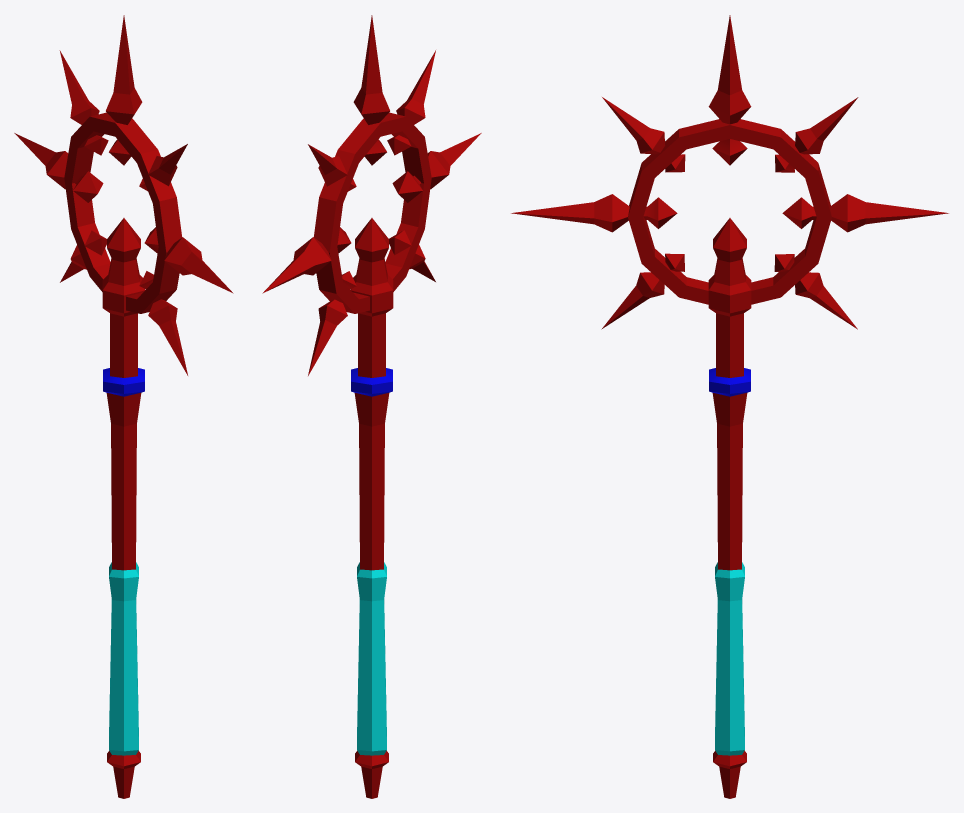
File: Mace_Rare_SunWorshipper.fbx
The picture shows the model from 3 angles, left to right: view 1: azimuth 30°, elevation 25°; view 2: azimuth 150°, elevation 25°; view 3: azimuth 270°, elevation 25°; orthographic projection.
Visible parts, largest first — view 1: SM_Wep_Ornate_Spikes_01; view 2: SM_Wep_Ornate_Spikes_01; view 3: SM_Wep_Ornate_Spikes_01.
Boxes of the visible parts, box(x1,y1,x2,y2) form: SM_Wep_Ornate_Spikes_01: box(14, 15, 233, 798); SM_Wep_Ornate_Spikes_01: box(262, 15, 481, 798); SM_Wep_Ornate_Spikes_01: box(511, 15, 948, 798).
Size of the model in its own units: 0.0571 by 1 by 0.5107.
